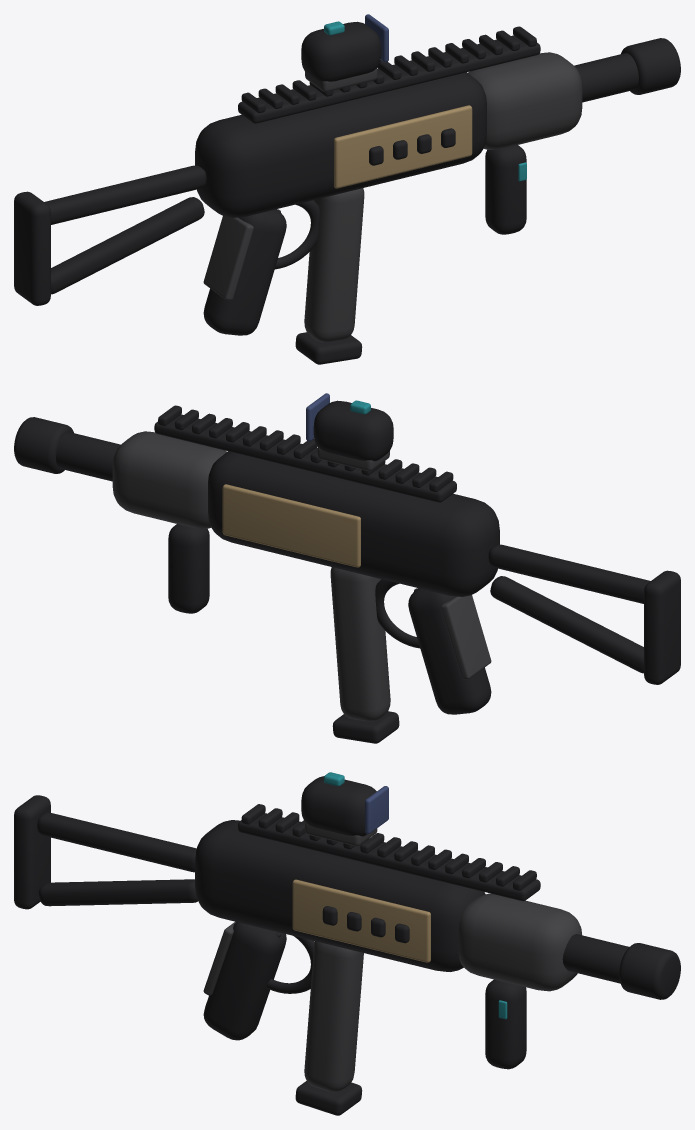
3 renders of one model, top to bottom at view 1: azimuth 30°, elevation 25°; view 2: azimuth 150°, elevation 25°; view 3: azimuth 330°, elevation 25°, orthographic.
Visible parts, largest first — view 1: sm7; view 2: sm7; view 3: sm7.
Part boxes in pixels (box(x1,y1,x2,y2)): sm7: box(14, 14, 680, 364); sm7: box(14, 393, 680, 743); sm7: box(14, 772, 680, 1115).
Bounding box in the file's own units: 0.472 × 0.23 × 0.06.
